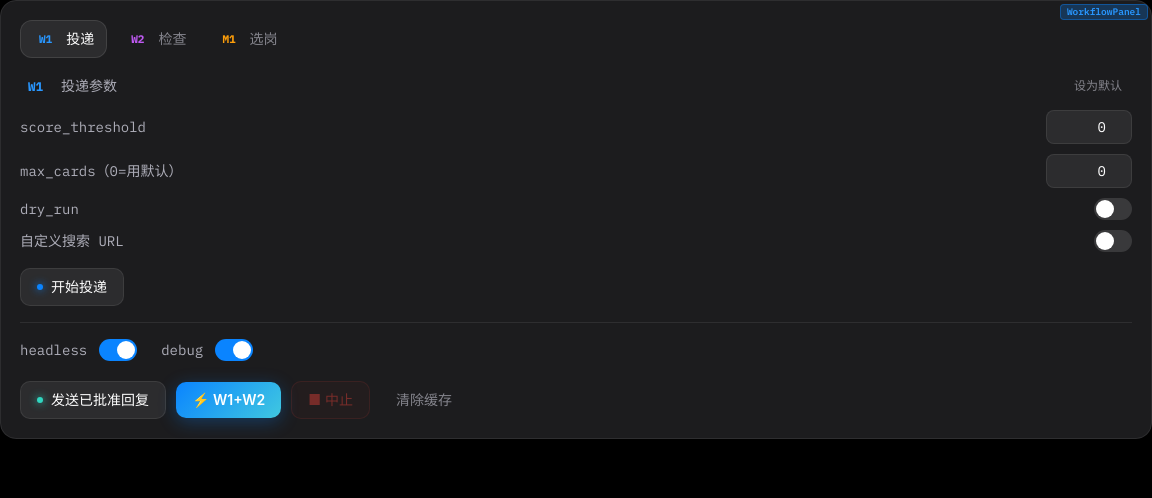
Test case: WorkflowPanel tabs › keeps an in-progress edit when you switch away and back
Replace the text in the number field in the row of "score_threshold" with "77": (1089, 127) [1046, 110, 1132, 144]
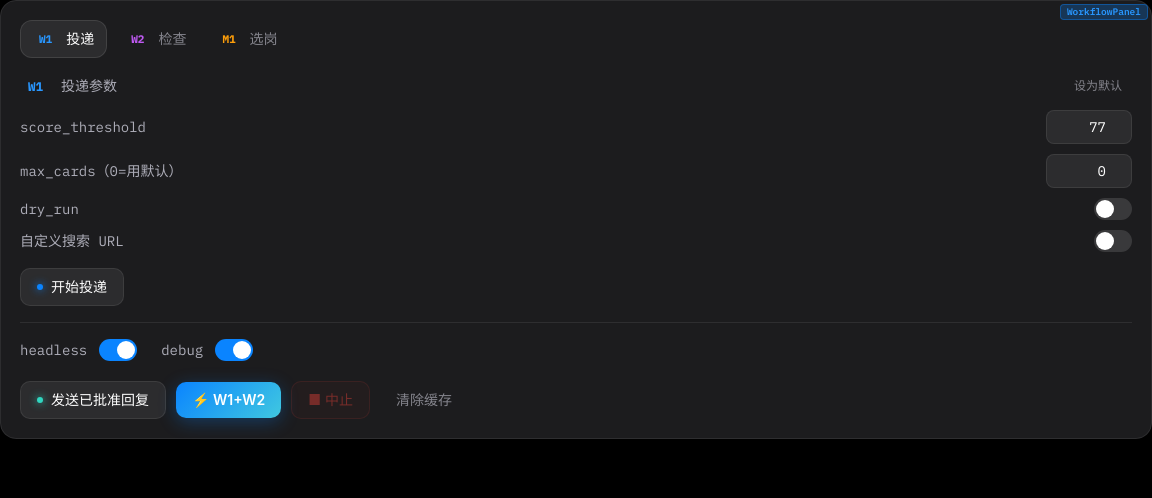
Click the button "M1 选岗": (247, 39) [204, 20, 290, 58]
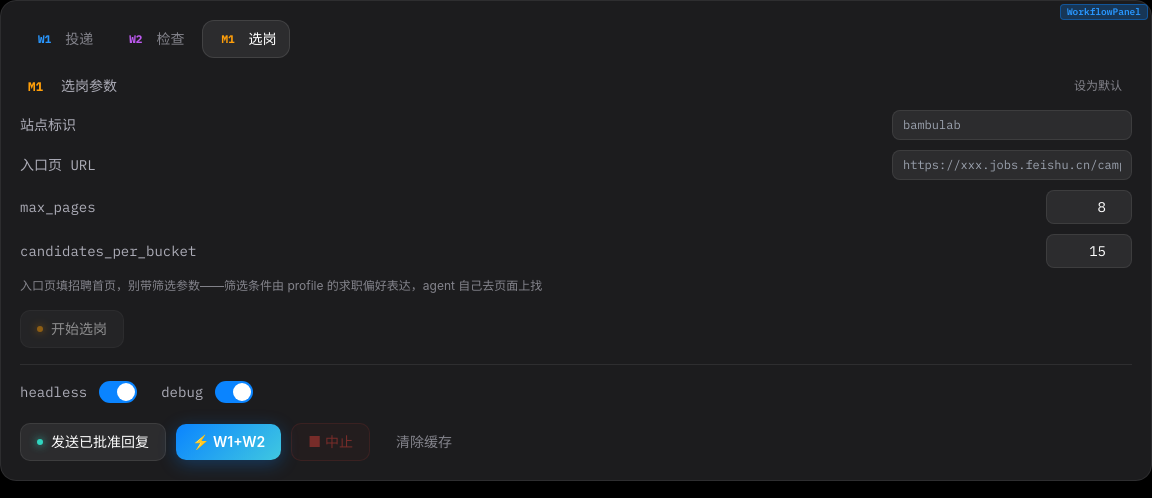
Click the button "W1 投递": (63, 39) [20, 20, 105, 58]
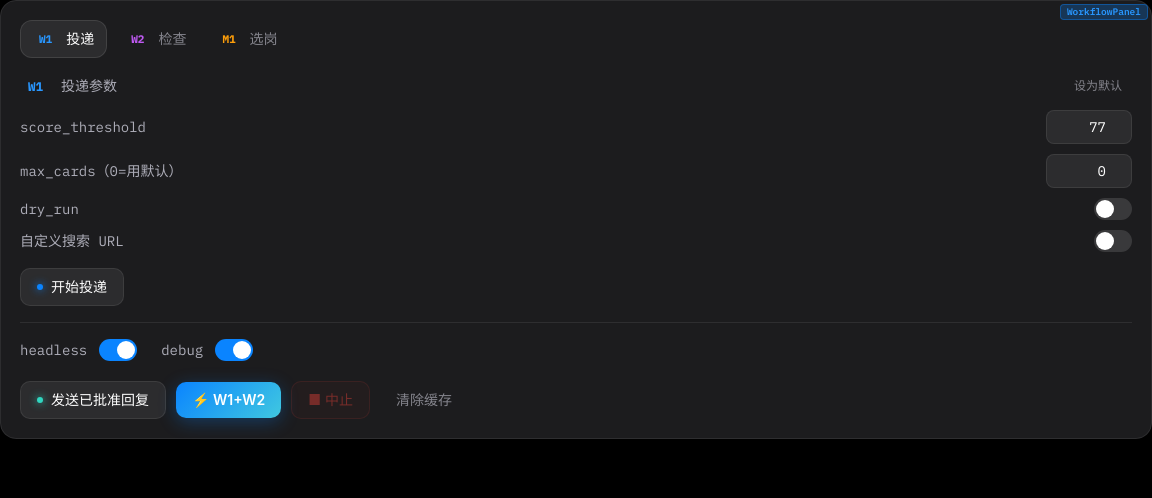
Check: the number field in the row of "score_threshold" holds "77", box [1046, 110, 1132, 144]
